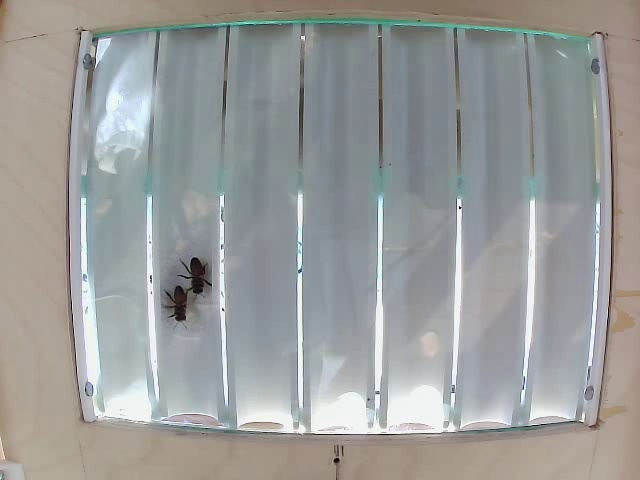bee: (156, 283, 197, 333), (178, 253, 212, 296)
